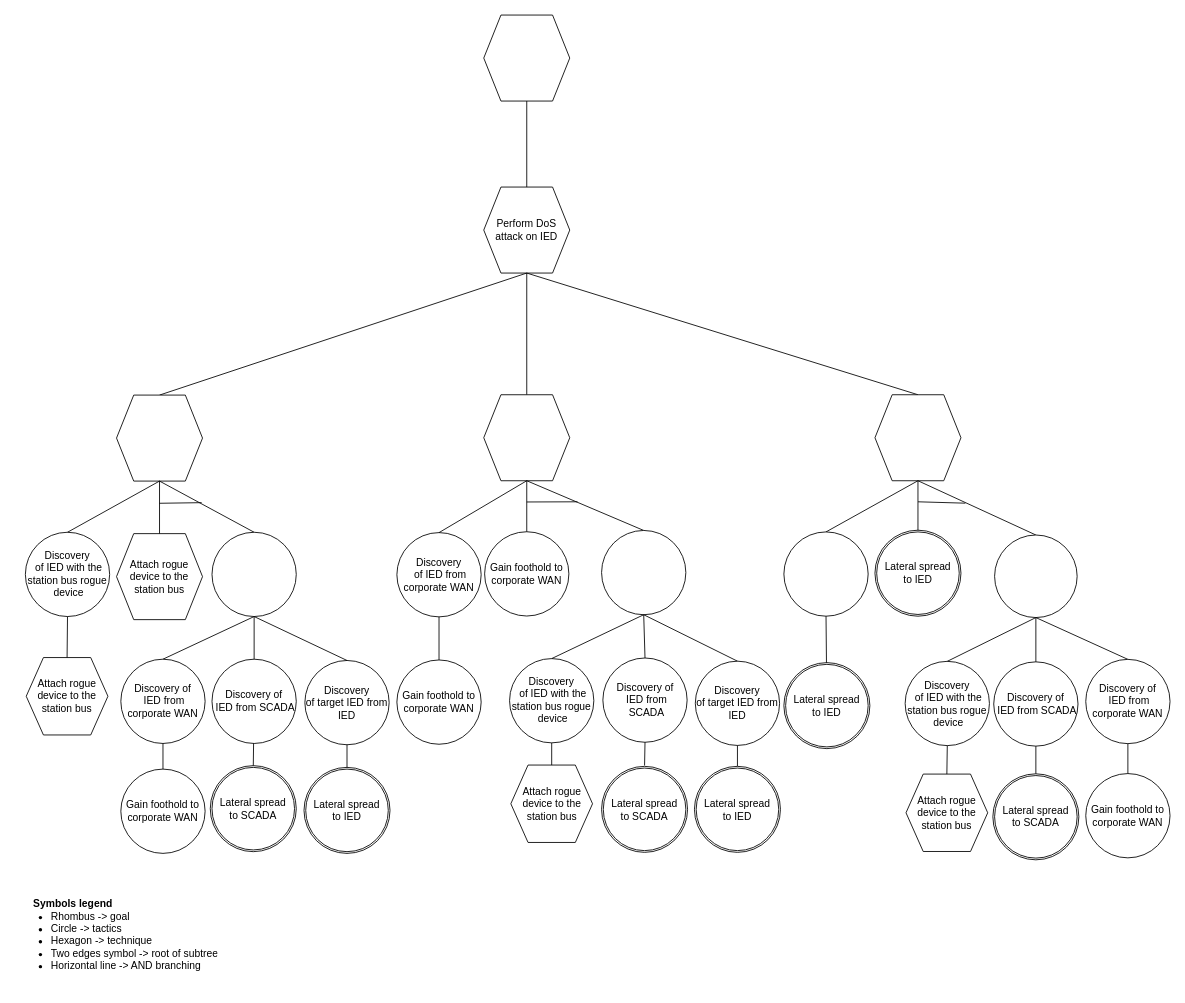
This 1185x1003 diagram has some shape labels left out. Here are the shapes that lost their labels. From the top down, the centre of each, then its label:
the point at 526,57: Perform DoS attack
the point at 159,437: Perform DoS attack on the IED with the staiton bus rogue device
the point at 526,437: Perform DoS attack on the IED from corporate WAN
the point at 917,437: Perform DoS attack on the target IED from IED
the point at 253,574: Discovery of IED's station bus network intarface without rogue device
the point at 643,572: Discovery of IED's station bus network not from corporate WAN
the point at 825,573: Discovery of the target IED from IED
the point at 1035,576: Discovery of IED's station bus network not from IED
